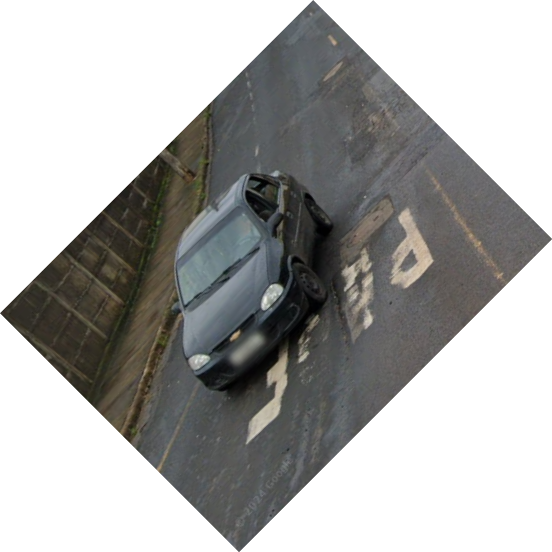car: (169, 165, 333, 401)
